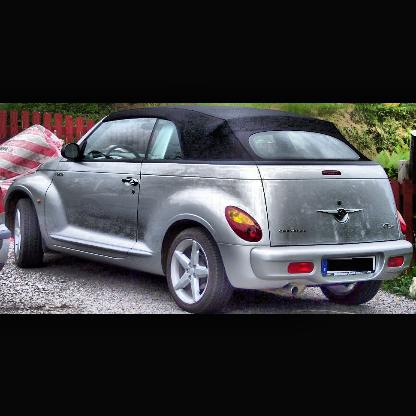Chrysler PT Cruiser Convertible 2008: (5, 106, 414, 313)
